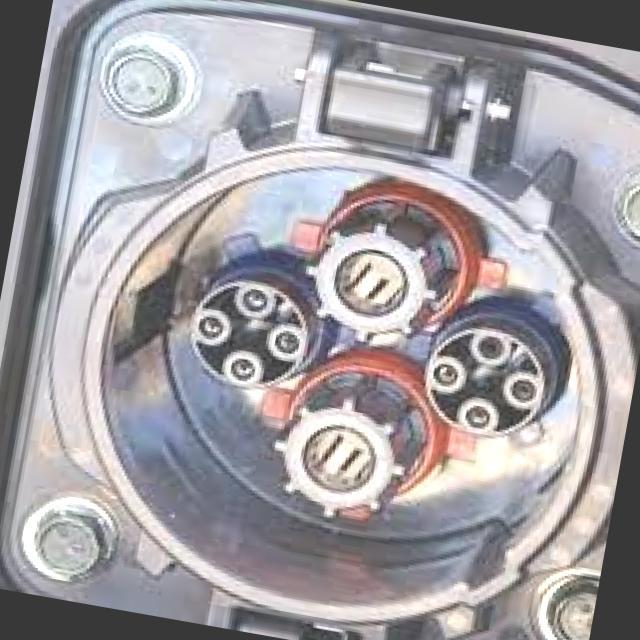CHAdeMO: (154, 190, 587, 544)
